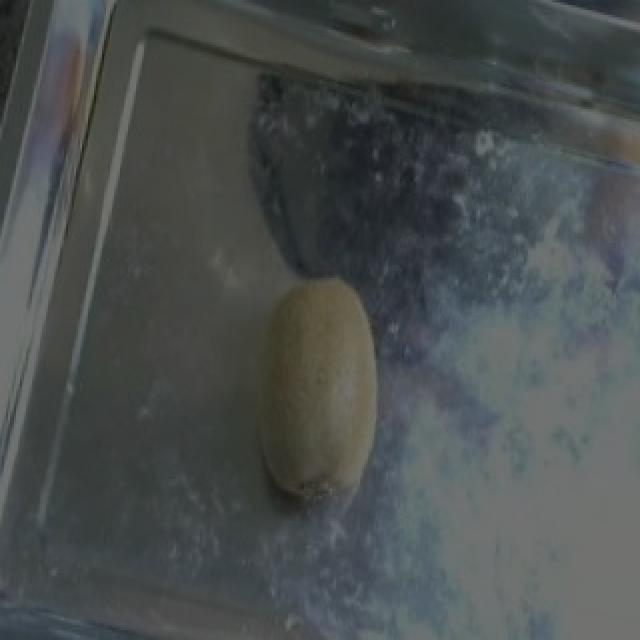Fruit: (206, 245, 414, 526)
